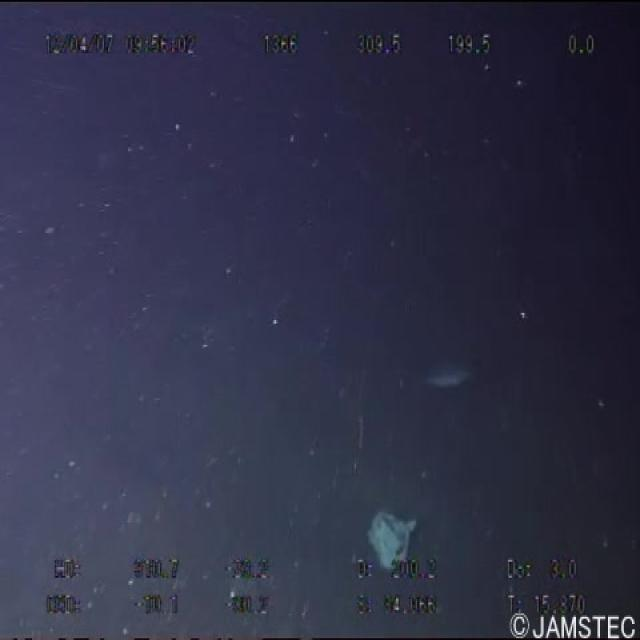plastic: (356, 501, 421, 571)
